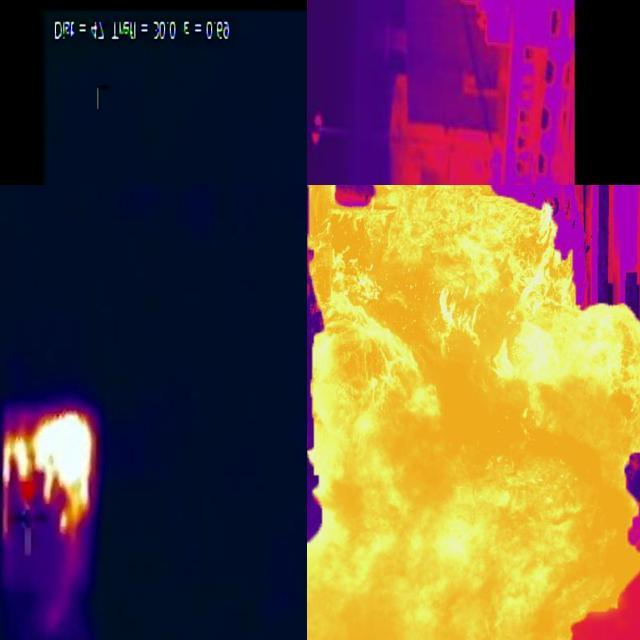fire: (307, 186, 640, 640), (2, 403, 99, 545)
